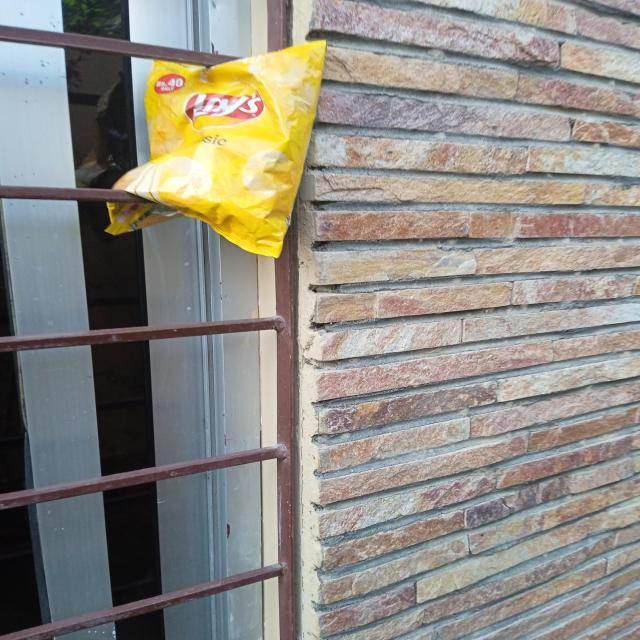Plastic: (107, 42, 324, 256)
